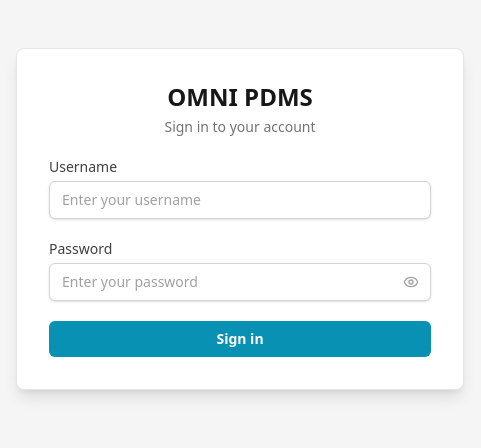
it: LoginContainer › displays error message on failed login and does not store token
Type "nurse" into the field labelled "Username" at (240, 200), box 49,181 -> 431,219
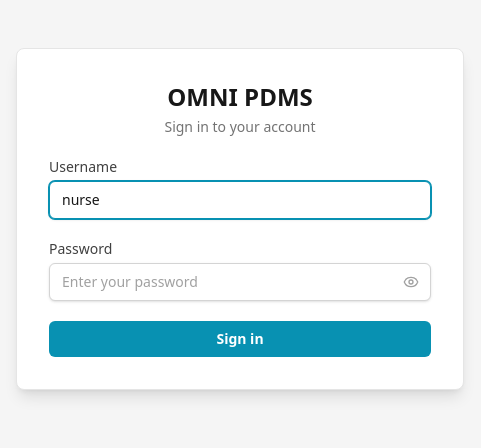
Type "wrong-password" into the password field labelled "Password" at (240, 282), box 49,263 -> 431,301
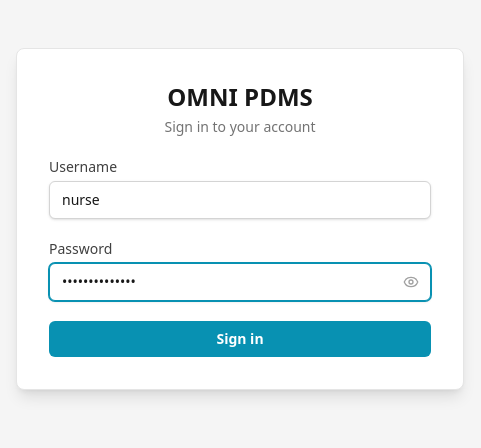
Click the button "Sign in" at (240, 339), box 49,321 -> 431,357
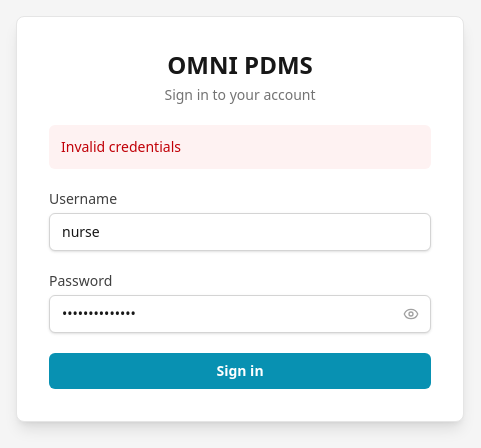
expect the text "Invalid credentials" is shown: met, box 49,125 -> 431,169
